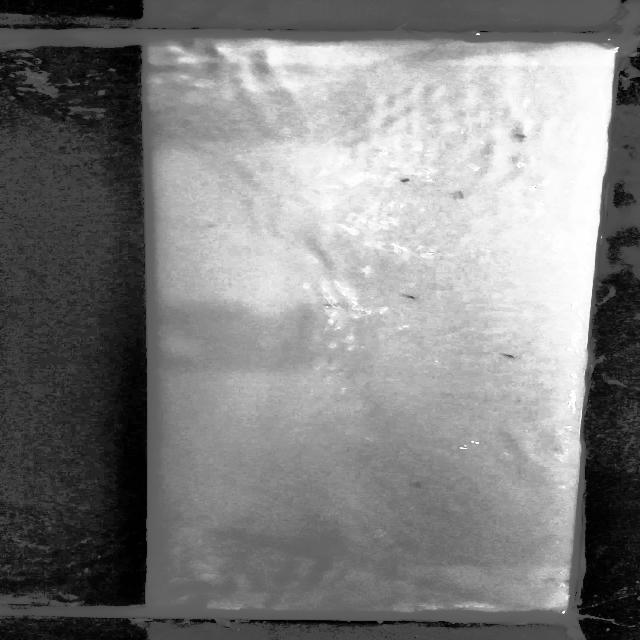shrimp: (394, 172, 426, 192), (449, 188, 477, 204), (501, 134, 539, 145), (494, 347, 520, 361), (404, 475, 430, 488), (393, 291, 424, 301)
